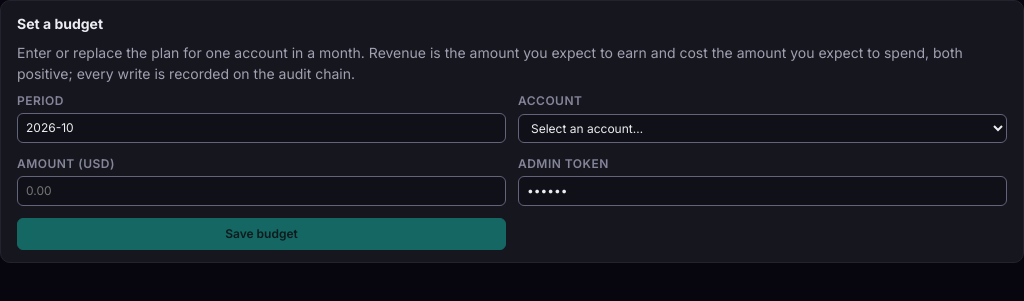
Scenario: BudgetEntry (T-L4-005) › surfaces the worker's stable error code rather than failing silently
The width and height of the screenshot is (1024, 301).
Select "6100 — Software & subscriptions" in the dropdown with test id "budget-account" at (762, 128), box [518,114,1007,143]
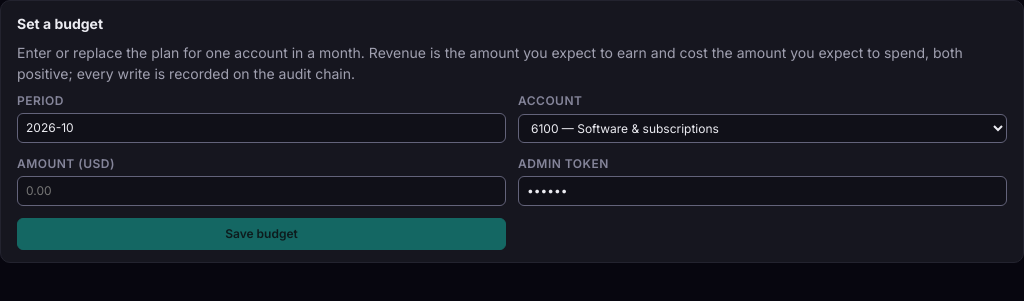
Type "180.00" into the field with test id "budget-amount" at (262, 191), box [17,176,506,206]
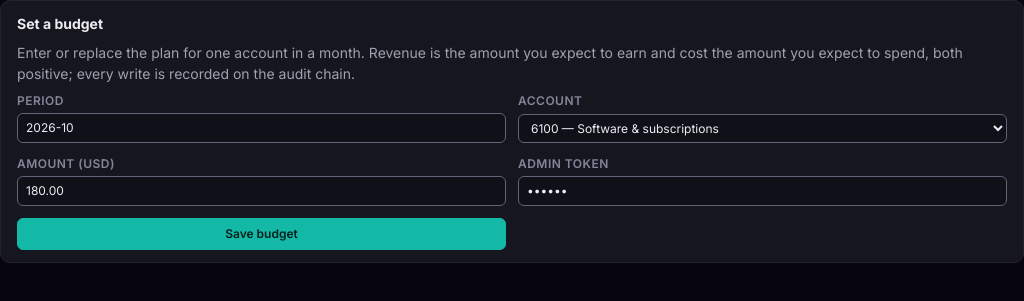
Click the button with test id "budget-save" at (262, 234), box [17,218,506,250]
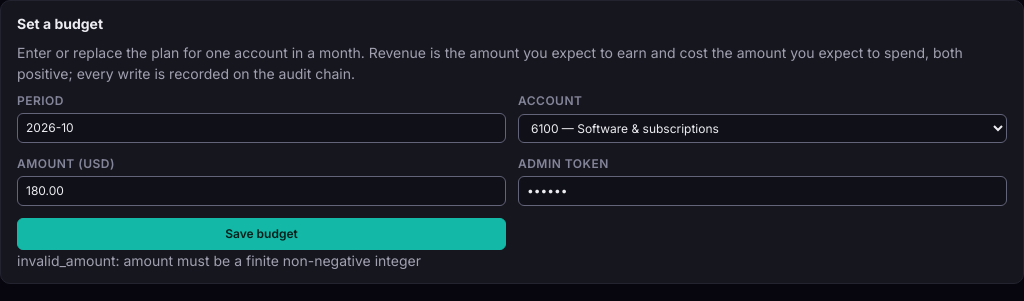
Result: the message with test id "budget-error" shows "invalid_amount" at [17,252,421,269]
